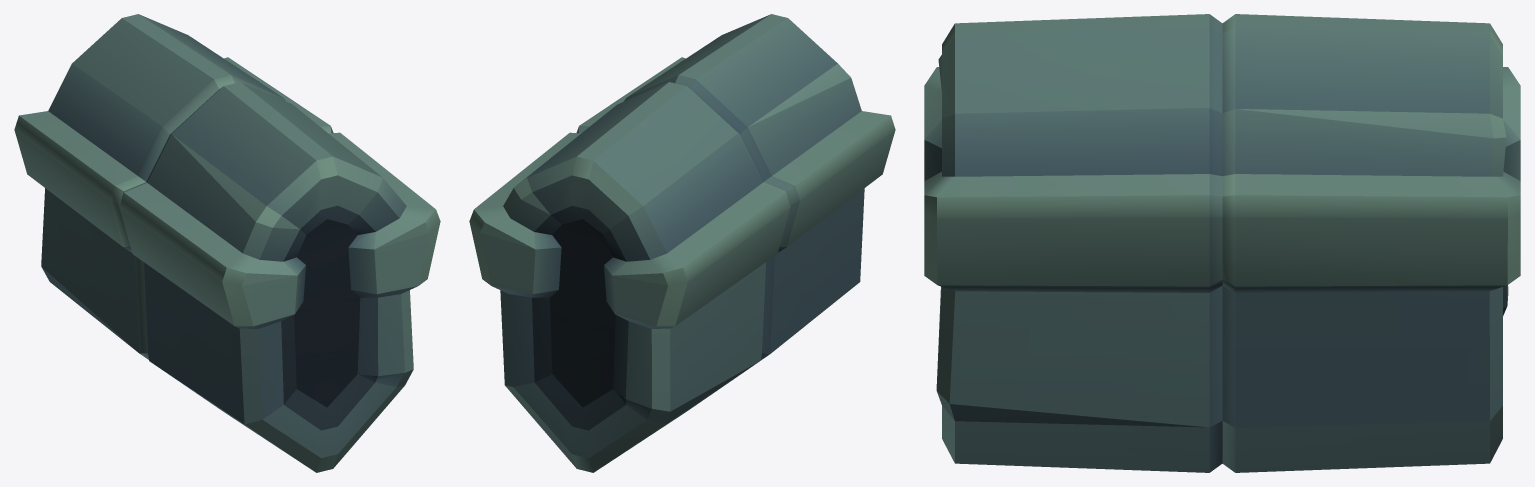
The model's file is ornament_1.fbx.
The picture shows the model from 3 angles, left to right: view 1: azimuth 30°, elevation 25°; view 2: azimuth 150°, elevation 25°; view 3: azimuth 270°, elevation 25°; orthographic projection. The views are drawn at different scales.
Parts seen in each view (by area): view 1: ornament_1; view 2: ornament_1; view 3: ornament_1.
Part boxes in pixels (<box>): ornament_1: <box>14,14,440,472</box>; ornament_1: <box>469,14,895,472</box>; ornament_1: <box>924,14,1520,472</box>.
Size of the model in its own units: 158 by 218 by 264.
